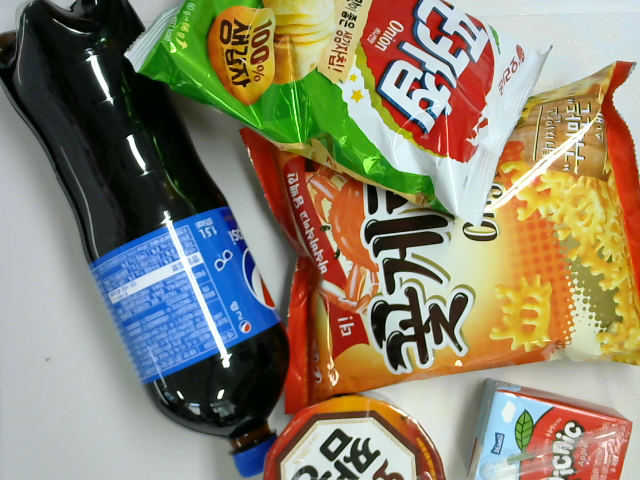Crabrang: (237, 60, 640, 411)
Ojjam: (264, 394, 448, 480)
Pepsi_Cola_1.5L: (1, 2, 290, 478)
Picnic_Apple: (466, 379, 635, 480)
Pocachip_Onion: (124, 1, 555, 225)
